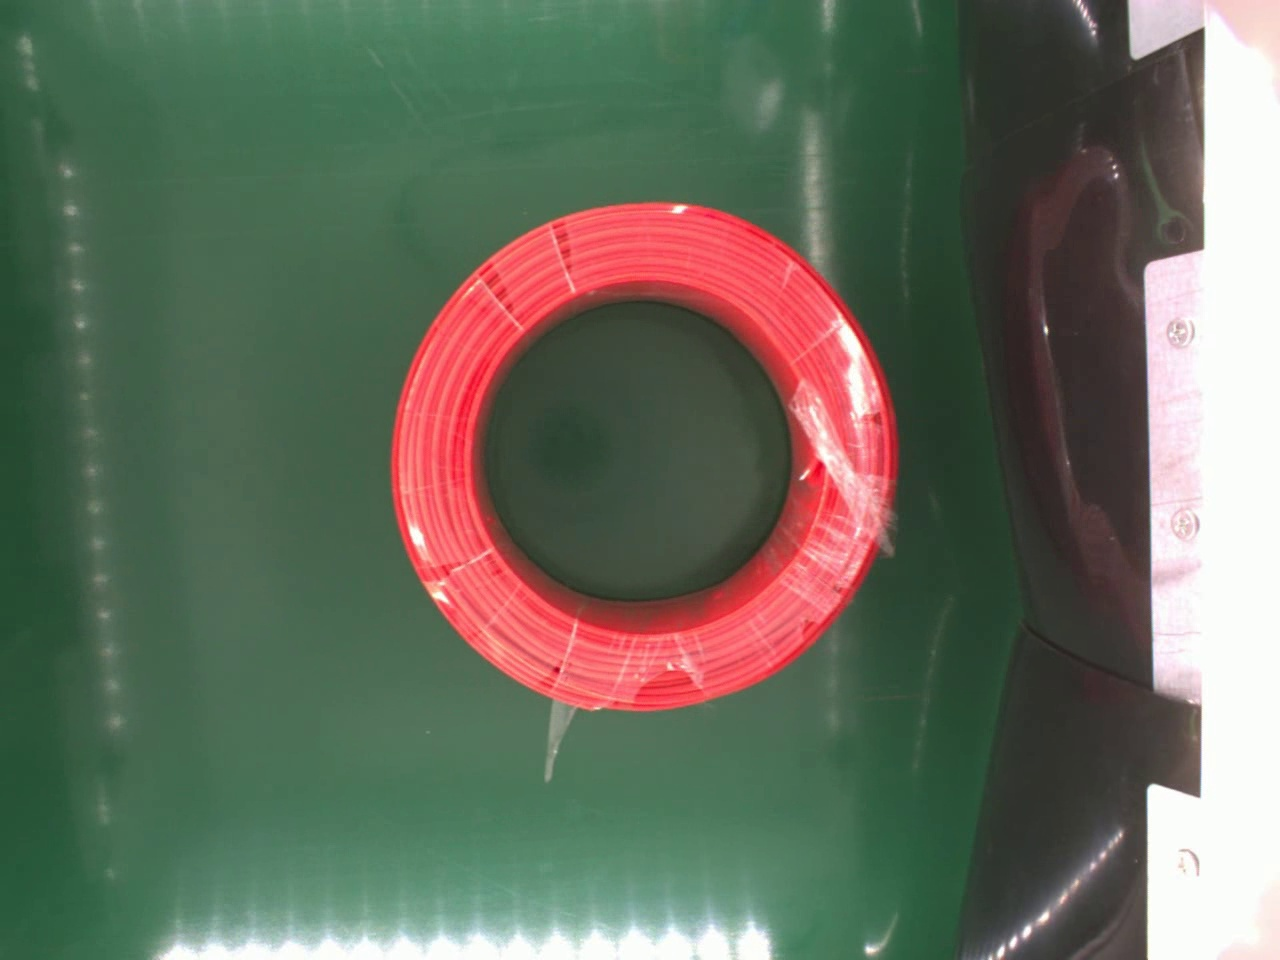red: (386, 201, 895, 714)
